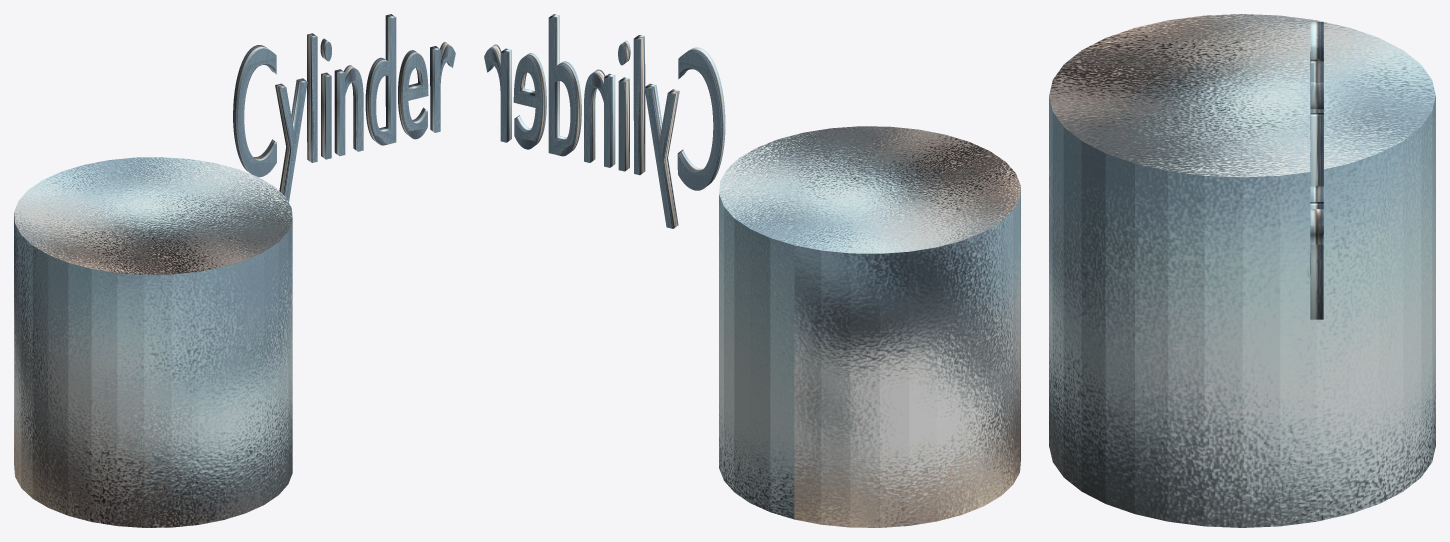
Rendered from cylindertexture2.gltf.
The picture shows the model from 3 angles, left to right: view 1: azimuth 30°, elevation 25°; view 2: azimuth 150°, elevation 25°; view 3: azimuth 270°, elevation 25°; orthographic projection. The views are drawn at different scales.
Visible parts, largest first — view 1: Cylinder, Text; view 2: Cylinder, Text; view 3: Cylinder, Text.
Boxes of the visible parts, box(x1,y1,x2,y2) form: Cylinder: box(14, 157, 292, 527); Text: box(233, 14, 455, 202); Cylinder: box(719, 126, 1020, 527); Text: box(484, 14, 725, 228); Cylinder: box(1049, 14, 1435, 527); Text: box(1310, 22, 1323, 319).
Bounding box in the file's own units: 111 × 87.72 × 60.
Materials: 1 (1 with a texture image).
